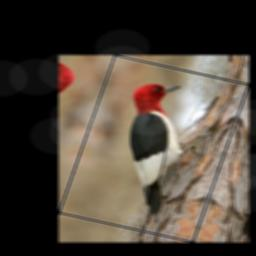Woodpecker: (91, 74, 226, 229)
